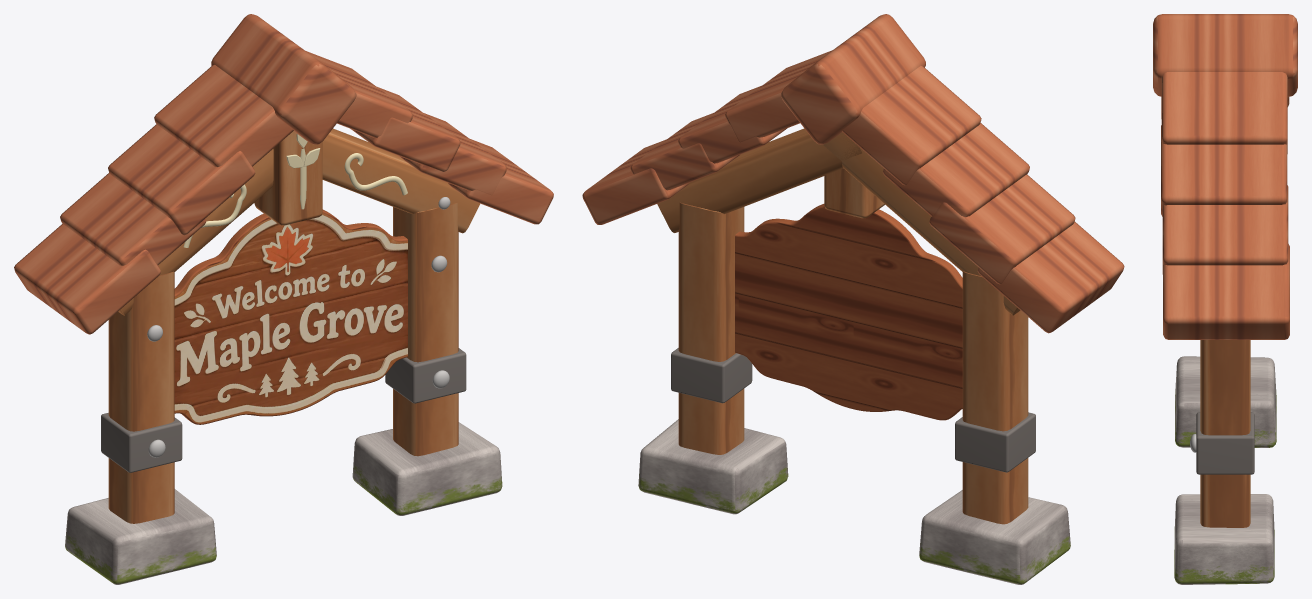
The model's file is welcome_sign.glb.
The picture shows the model from 3 angles, left to right: view 1: azimuth 30°, elevation 25°; view 2: azimuth 150°, elevation 25°; view 3: azimuth 270°, elevation 25°; orthographic projection.
Parts seen in each view (by area): view 1: model; view 2: model; view 3: model.
Boxes of the visible parts, bbox=[...] form: model: bbox=[14, 14, 553, 584]; model: bbox=[582, 14, 1124, 584]; model: bbox=[1153, 14, 1297, 584].
Bounding box in the file's own units: 3.49 × 3.35 × 0.92.
Materials: 9 (6 with a texture image).
